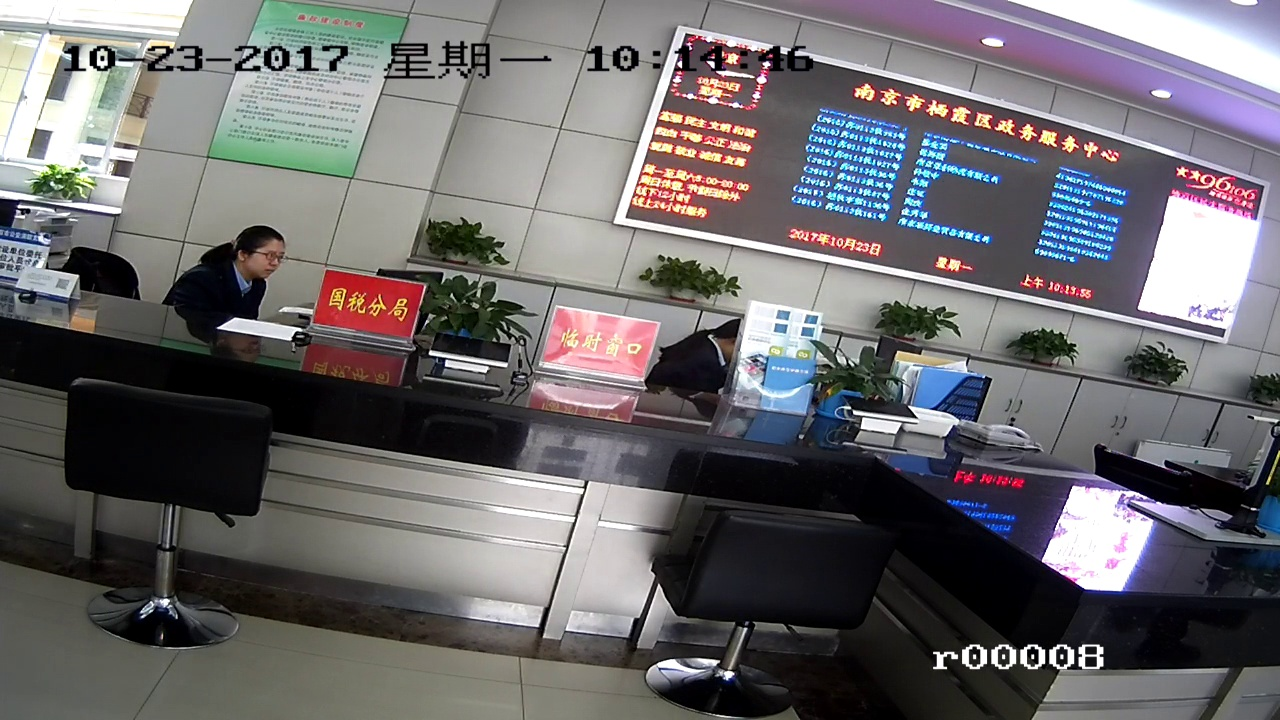billboard: (245, 14, 367, 176), (542, 309, 650, 389), (312, 271, 410, 344)
chair: (62, 384, 261, 651), (654, 498, 883, 713)
monitor: (654, 38, 1225, 333)
person: (176, 219, 288, 318)
pot: (652, 253, 733, 301), (877, 303, 957, 346), (428, 216, 499, 260), (1126, 341, 1184, 394), (1017, 331, 1078, 370)
